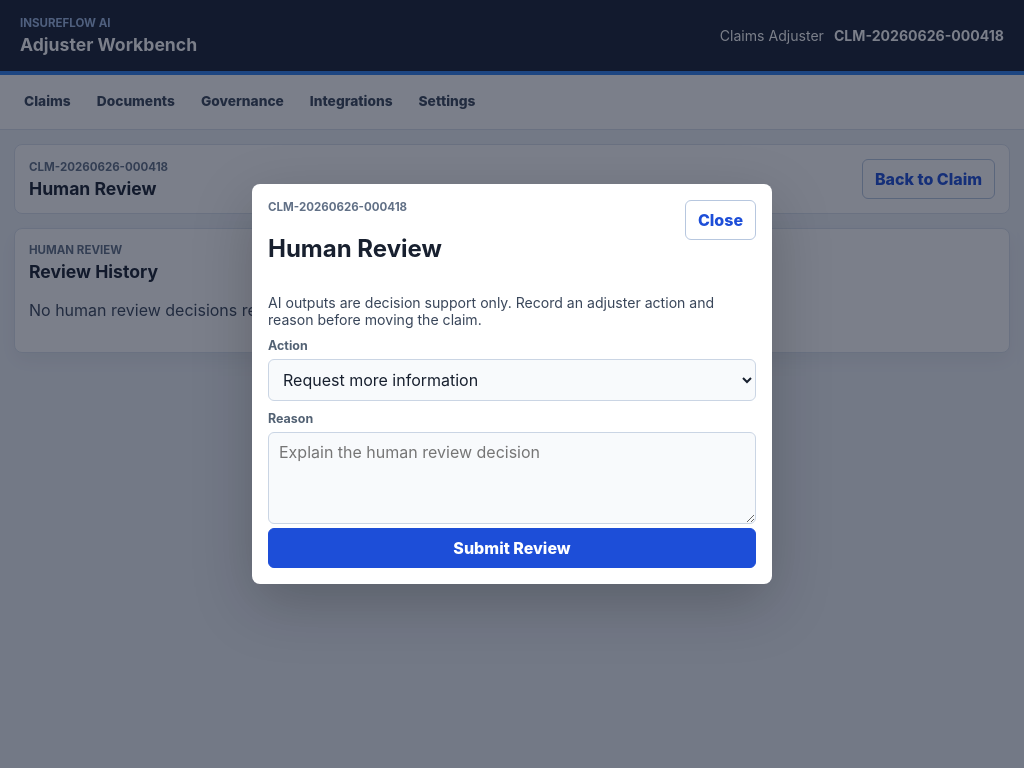
Test: App › records a human review from the route-backed review page
Select "Accept AI recommendation" in the dropdown labelled "Action" at (512, 380), box [268,359,756,401]
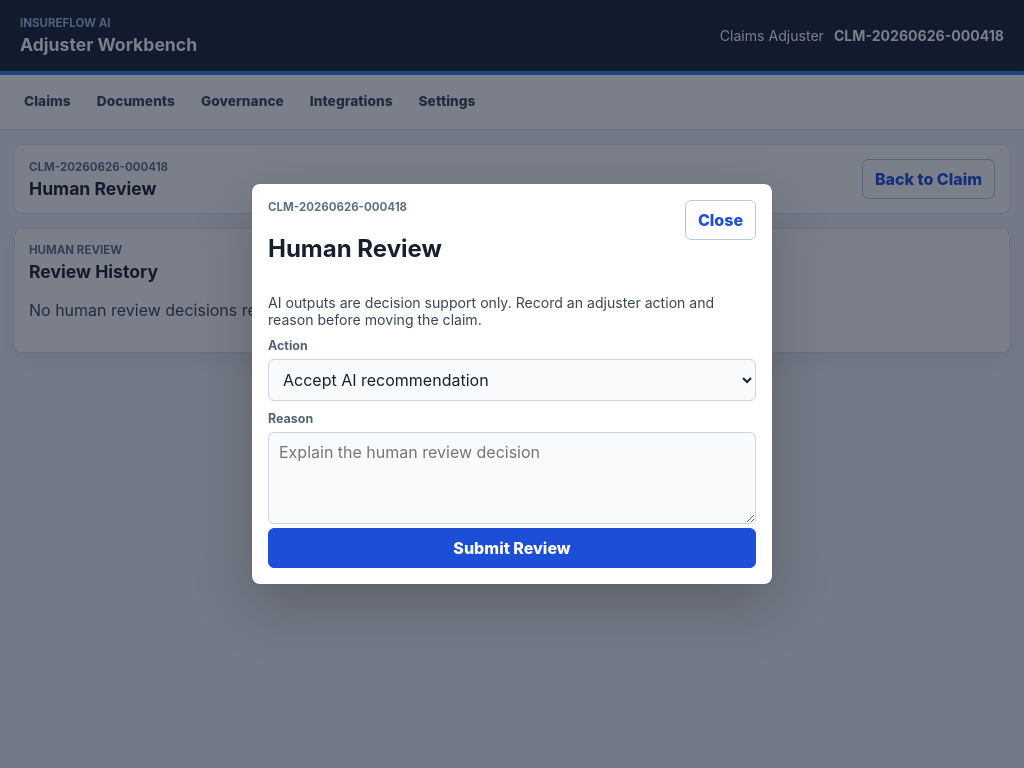
Type "Coverage and AI recommendation reviewed." into the text box labelled "Reason" at (512, 478), box [268,432,756,524]
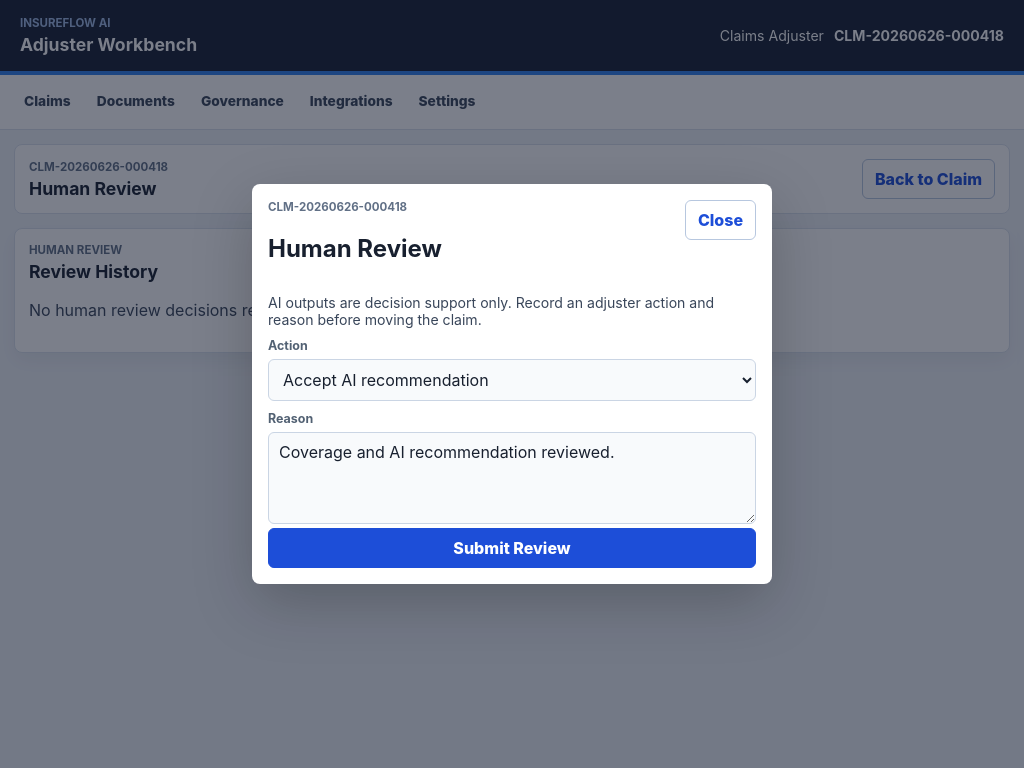
Submit the form, box [268,338,756,568]
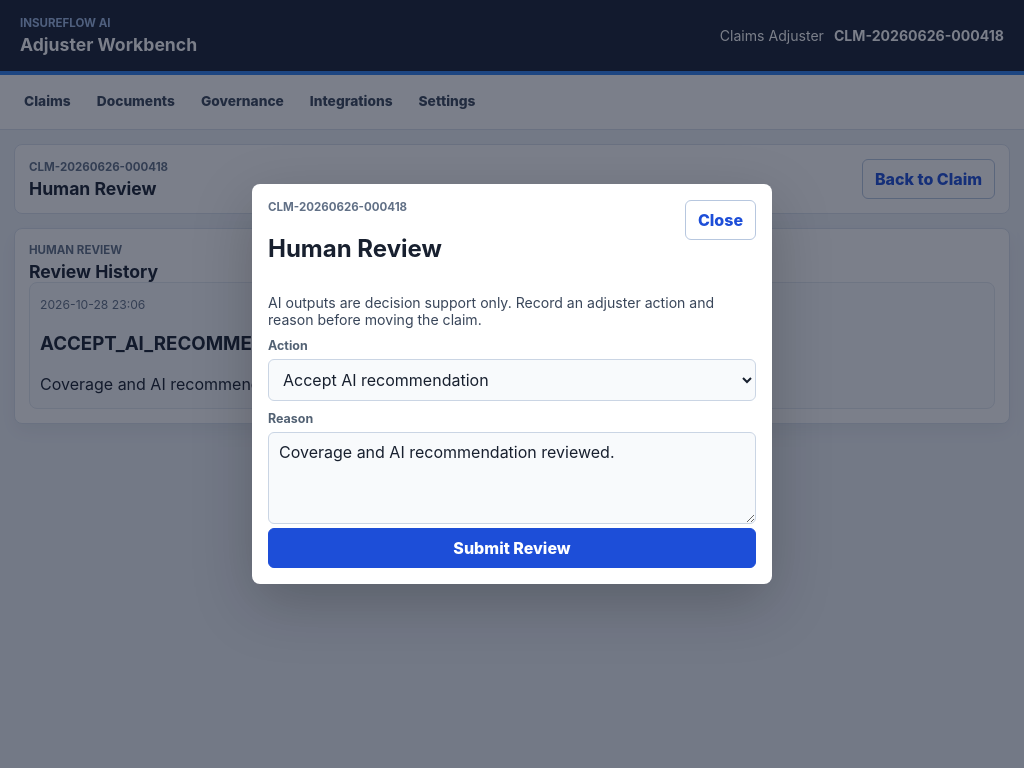
Expected: the text "Review History" is shown, [29,261,158,282]
Now the text "ACCEPT_AI_RECOMMENDATION" is shown, box [40,332,338,355]
Now the text "Coverage and AI recommendation reviewed." is shown, box [40,374,376,394]
